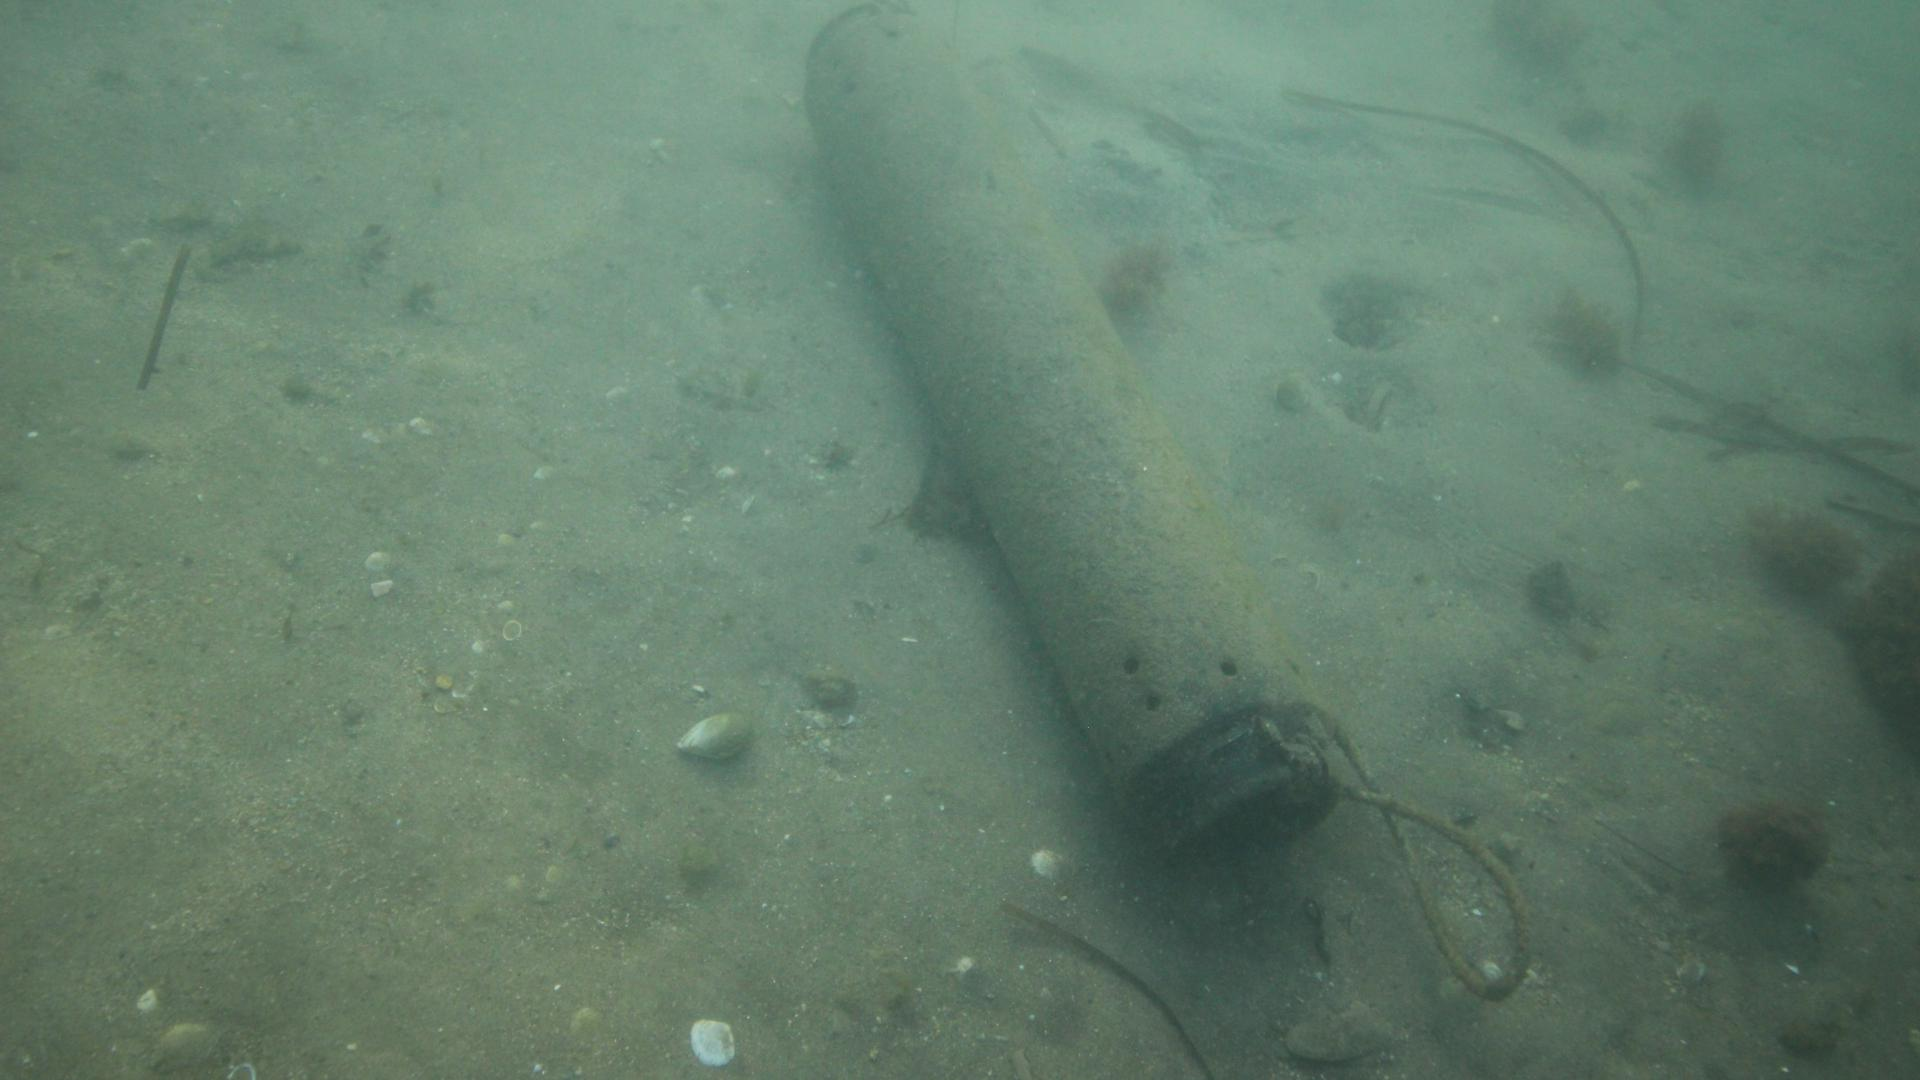eel fish trap: (803, 3, 1328, 862)
rope: (1331, 721, 1532, 1004)
